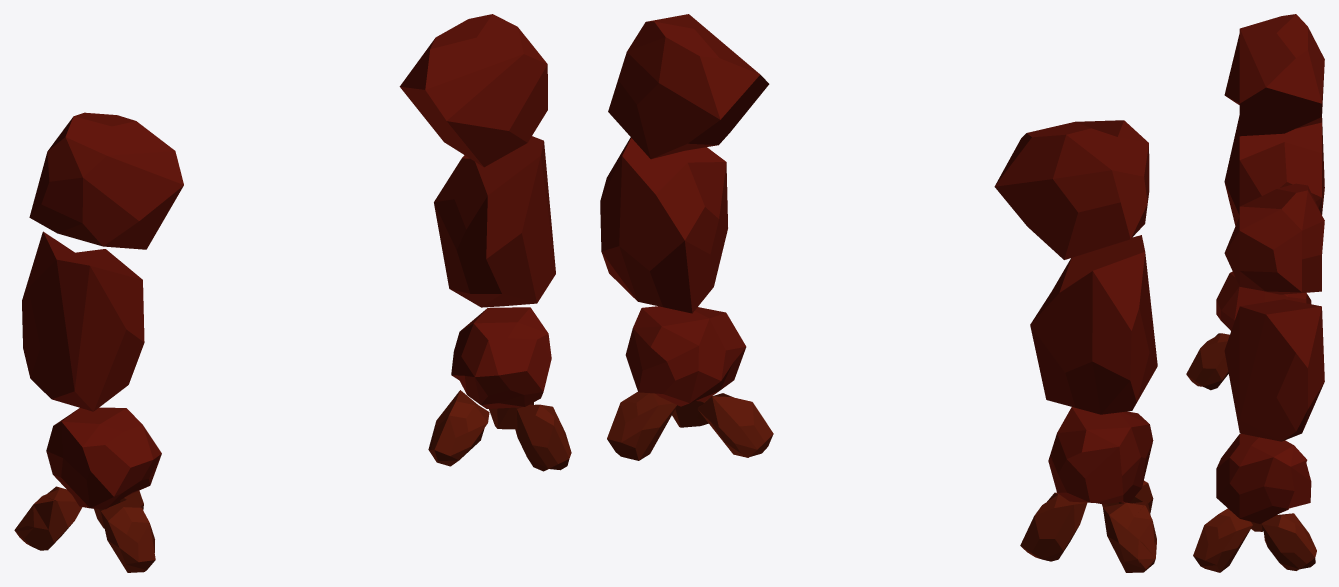
Rendered from heroModel.fbx.
3 views of the same model, side by side, from view 1: azimuth 30°, elevation 25°; view 2: azimuth 150°, elevation 25°; view 3: azimuth 270°, elevation 25° (orthographic). The views are drawn at different scales.
Visible parts, largest first — view 1: arm.R, arm.L, sholder.R, sholder.L, hand.R, hand.L, finger.R.002, finger.L.002, finger.L.001, finger.R.003; view 2: arm.L, arm.R, sholder.R, sholder.L, hand.L, hand.R, finger.L.003, finger.L.001, finger.R.003, finger.R.001; view 3: arm.L, sholder.R, sholder.L, hand.L, arm.R, finger.L.002, finger.L.003, hand.R, finger.R.002.
Boxes of the visible parts, x1,y1,x2,y2 form: arm.R: (22,231,144,411); arm.L: (434,136,555,307); sholder.R: (29,112,183,249); sholder.L: (399,14,547,167); hand.R: (46,407,161,509); hand.L: (451,307,551,408); finger.R.002: (100,496,155,572); finger.L.002: (515,404,571,471); finger.L.001: (428,390,489,466); finger.R.003: (14,486,82,550); arm.L: (600,137,727,313); arm.R: (1030,235,1157,414); sholder.R: (994,120,1149,259); sholder.L: (608,14,769,159); hand.L: (625,306,746,406); hand.R: (1048,407,1153,504); finger.L.003: (607,392,677,460); finger.L.001: (697,393,773,457); finger.R.003: (1103,501,1156,572); finger.R.001: (1020,492,1087,561); arm.L: (1224,299,1324,441); sholder.R: (1224,14,1324,136); sholder.L: (1224,183,1324,294); hand.L: (1216,433,1311,523); arm.R: (1224,115,1324,225); finger.L.002: (1193,508,1252,572); finger.L.003: (1261,513,1316,570); hand.R: (1216,271,1311,330); finger.R.002: (1186,333,1229,390).
Bounding box in the file's own units: 2.21 × 1.71 × 0.5789.
